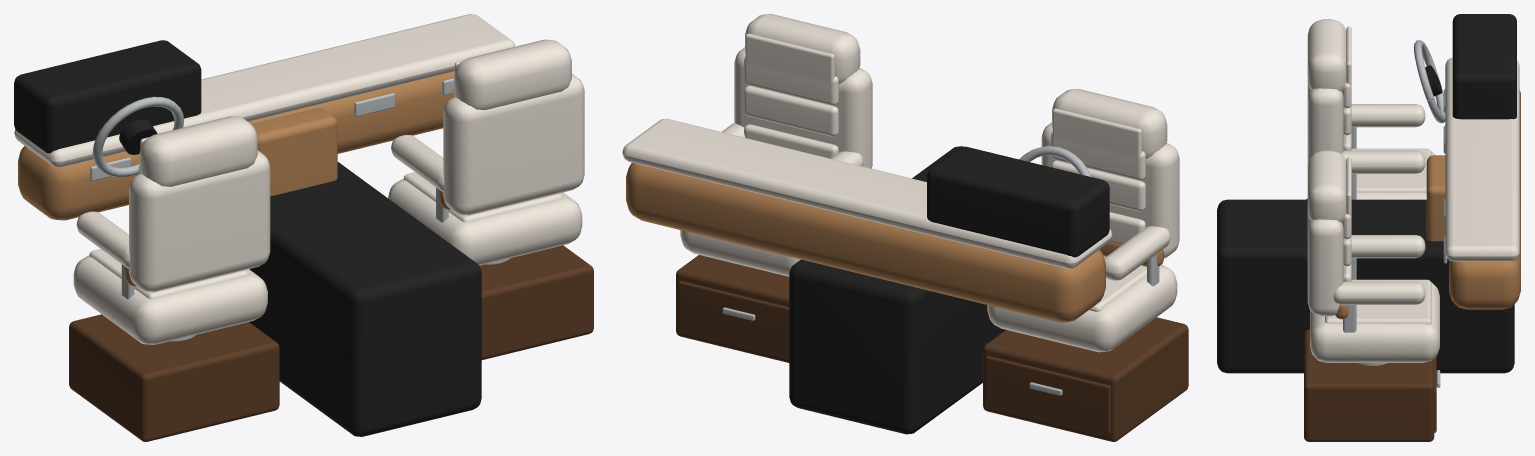
The model's file is cab.glb.
3 views of the same model, side by side, from view 1: azimuth 30°, elevation 25°; view 2: azimuth 150°, elevation 25°; view 3: azimuth 270°, elevation 25° (orthographic). The views are drawn at different scales.
Visible parts, largest first — view 1: cab_details, cab_seat_off, cab_seat_kerb; view 2: cab_details, cab_seat_off, cab_seat_kerb; view 3: cab_details, cab_seat_kerb, cab_seat_off.
Part boxes in pixels (x1,y1,x2,y2): cab_details: [14, 14, 515, 436]; cab_seat_off: [69, 116, 279, 441]; cab_seat_kerb: [388, 39, 593, 359]; cab_details: [622, 118, 1112, 434]; cab_seat_off: [983, 89, 1188, 441]; cab_seat_kerb: [676, 14, 872, 362]; cab_details: [1217, 14, 1520, 373]; cab_seat_kerb: [1304, 150, 1440, 441]; cab_seat_off: [1306, 19, 1435, 199].
Bounding box in the file's own units: 1.86 × 1.1 × 1.22.
